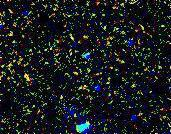star: (12, 64, 42, 94)
